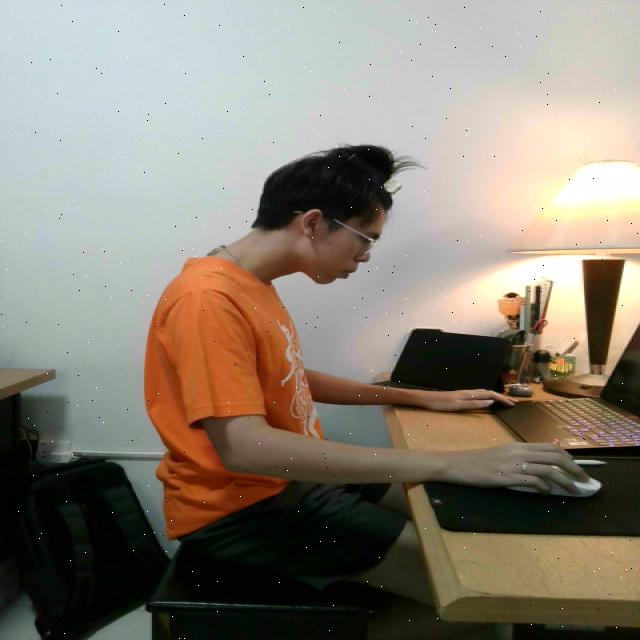Bad: (136, 139, 428, 595)
